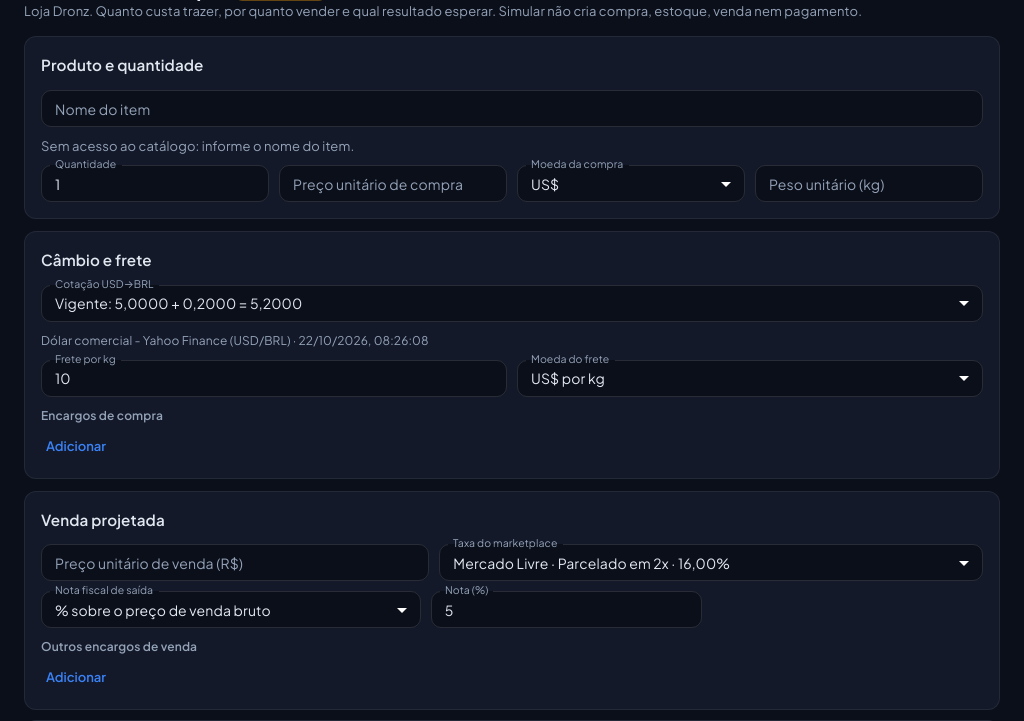
Test case: Simulador de compra › erro no cálculo é informado; sem permissão de salvar não há botão; sem catálogo informa o nome
The width and height of the screenshot is (1024, 721).
Expected: the text "Sem acesso ao catálogo: informe o nome do item." is shown, [41,138,354,154]
Step 1. Type "Item novo" into the field labelled "Nome do item" → (512, 108), box [41,90,983,127]
(page scrolled)
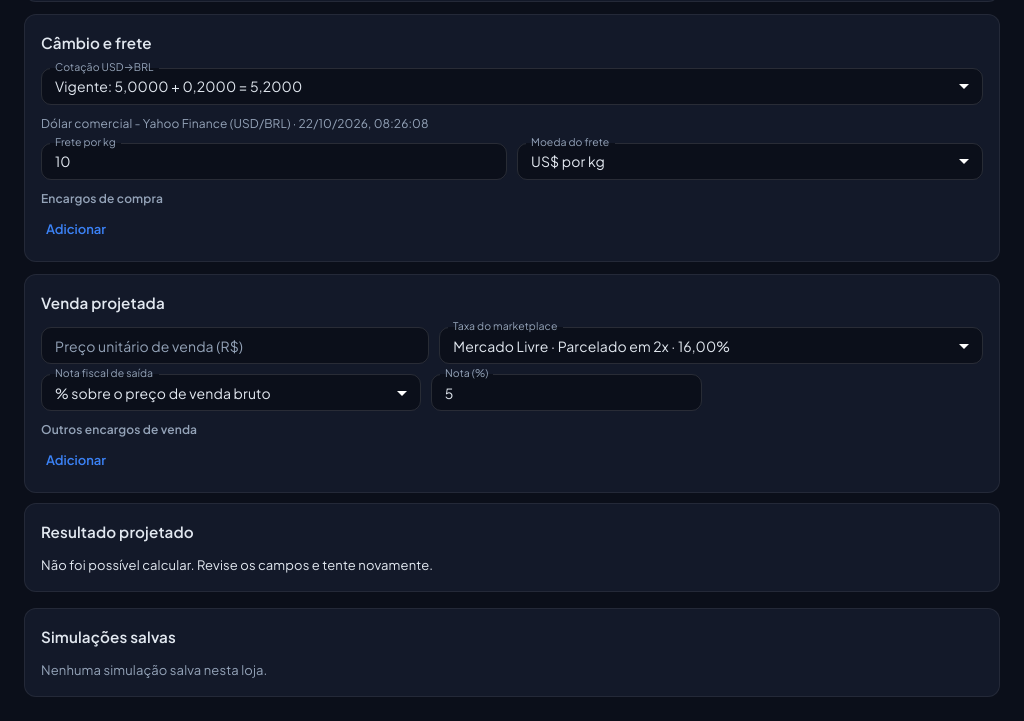
Expected: the text "Não foi possível calcular. Revise os campos e tente novamente." is shown, [41,557,433,573]
